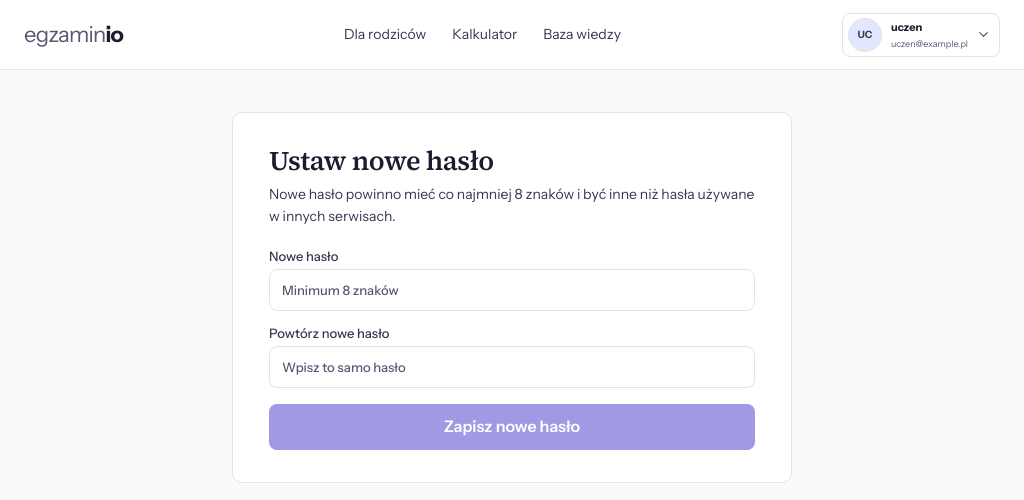
Test: password recovery UI › updates the password after Supabase restores the recovery session
In the password field labelled "Nowe hasło": (512, 290) [269,269,755,311], type "NoweHaslo-123"
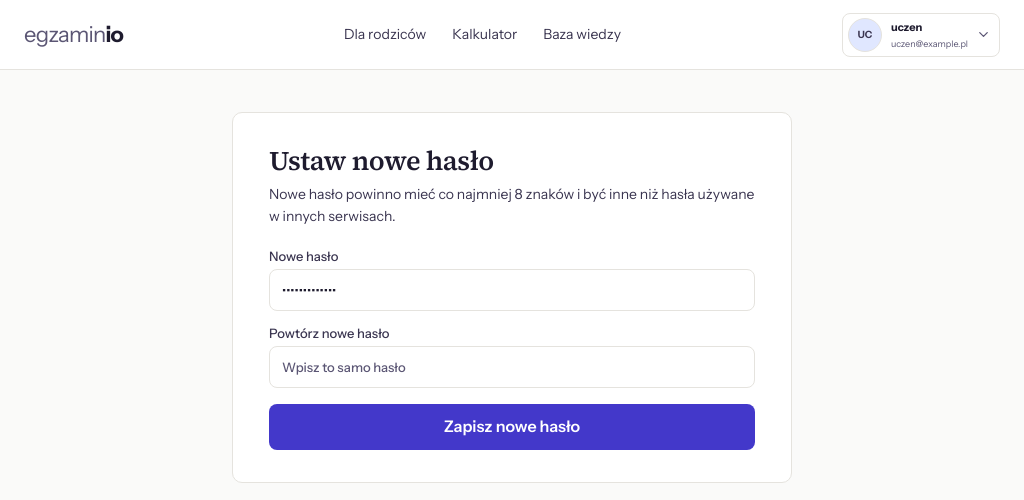
In the password field labelled "Powtórz nowe hasło": (512, 367) [269,346,755,388], type "NoweHaslo-123"
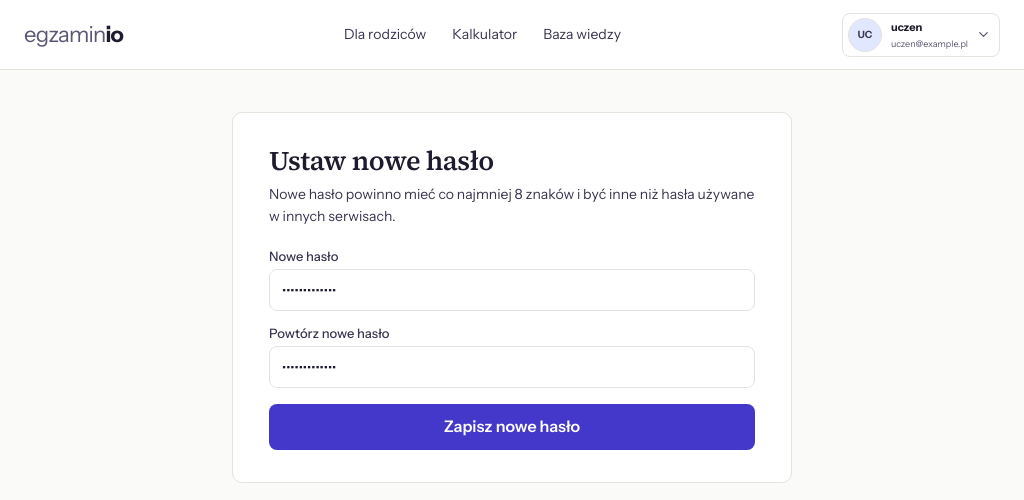
Click the button "Zapisz nowe hasło": (512, 427) [269,404,755,450]
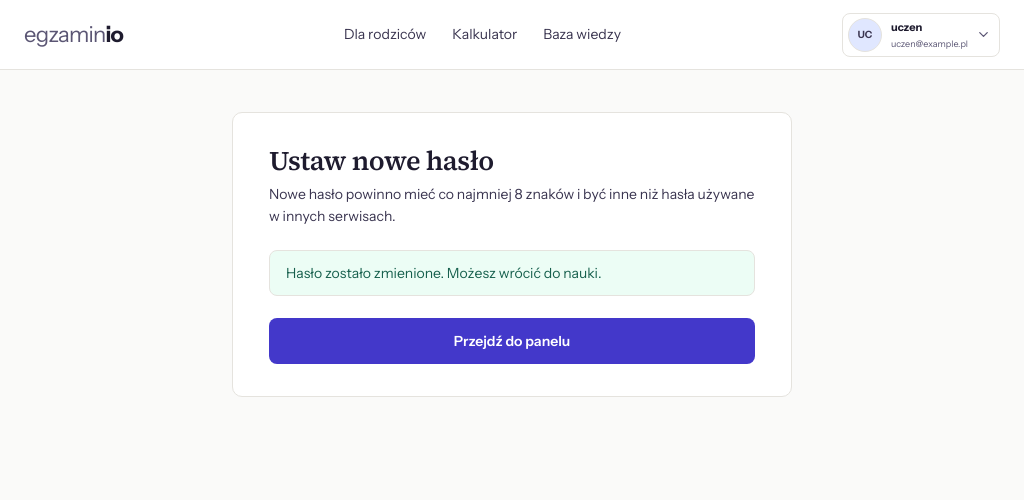
Expected: the text "Hasło zostało zmienione. Możesz wrócić do nauki." is shown, [286,264,602,282]
